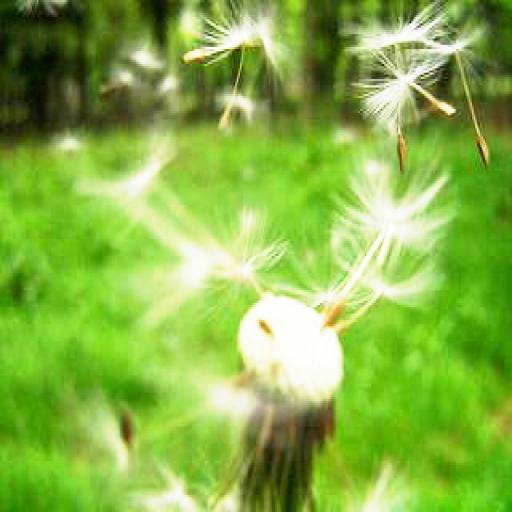dandelion: (324, 158, 458, 243), (344, 2, 458, 75), (186, 4, 291, 60)
